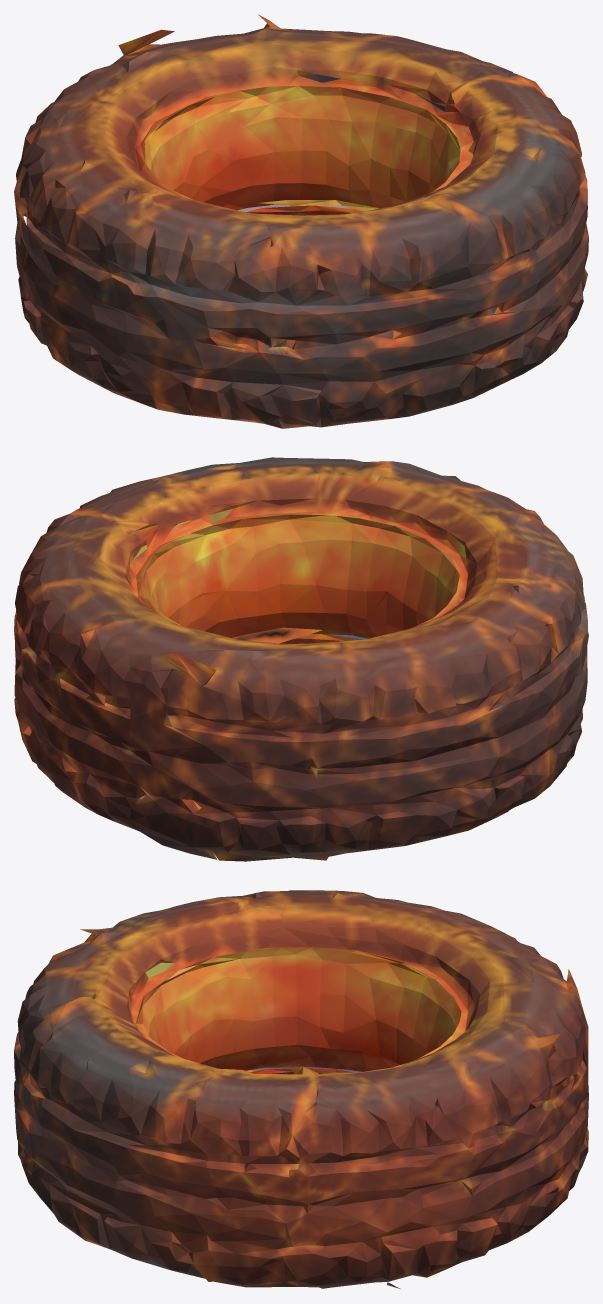
File: ban_terbakar_1.glb
3 renders of one model, top to bottom at view 1: azimuth 30°, elevation 25°; view 2: azimuth 150°, elevation 25°; view 3: azimuth 270°, elevation 25°, orthographic.
Parts seen in each view (by area): view 1: tripo_node_82b88b43; view 2: tripo_node_82b88b43; view 3: tripo_node_82b88b43.
Part boxes in pixels (x1,y1,x2,y2): tripo_node_82b88b43: (14, 14, 588, 428); tripo_node_82b88b43: (14, 457, 588, 861); tripo_node_82b88b43: (14, 890, 588, 1288).
Bounding box in the file's own units: 99.21 × 38.65 × 98.87.
Materials: 1 (1 with a texture image).
